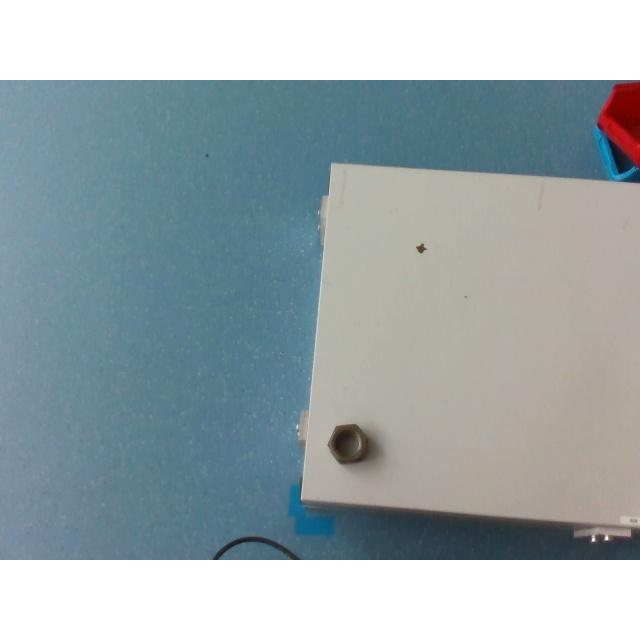M30: (324, 424, 368, 464)
